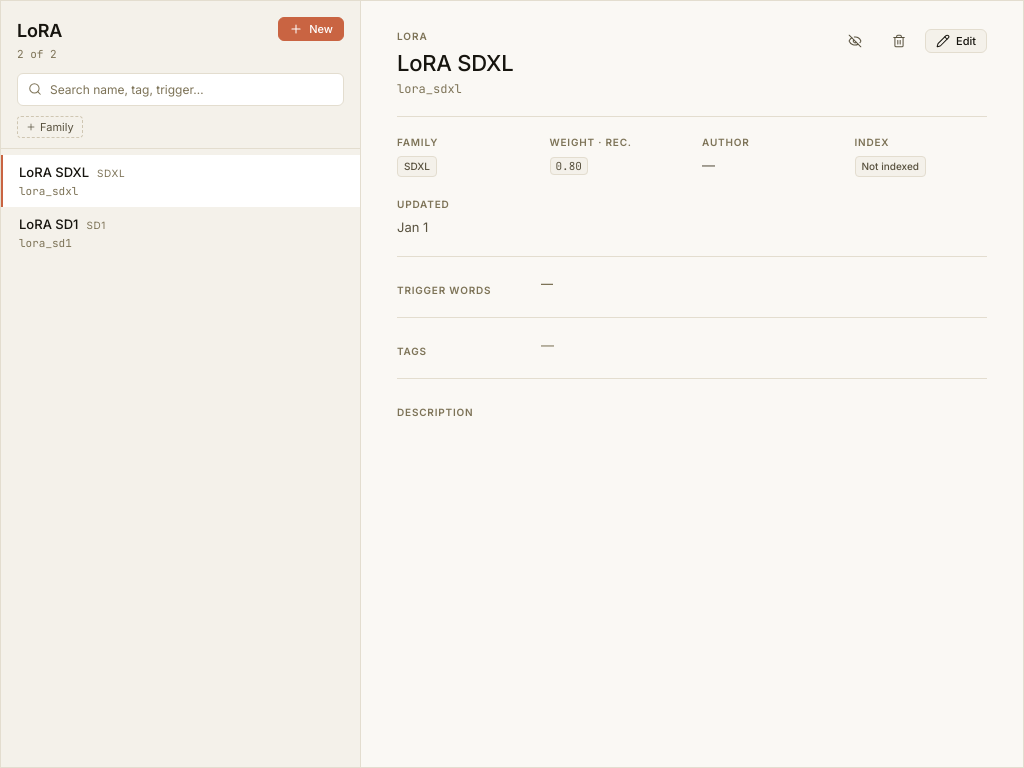
Test case: library routes › replaces family filter when choosing another family (LoRA, like models)
This screenshot has width=1024, height=768.
Expected: the text "lora_sdxl" below "of" is shown, [19,184,78,198]
Expected: the text "lora_sd1" is shown, [19,236,72,250]
Click the button "Family" at [50, 126], box [17,116,83,138]
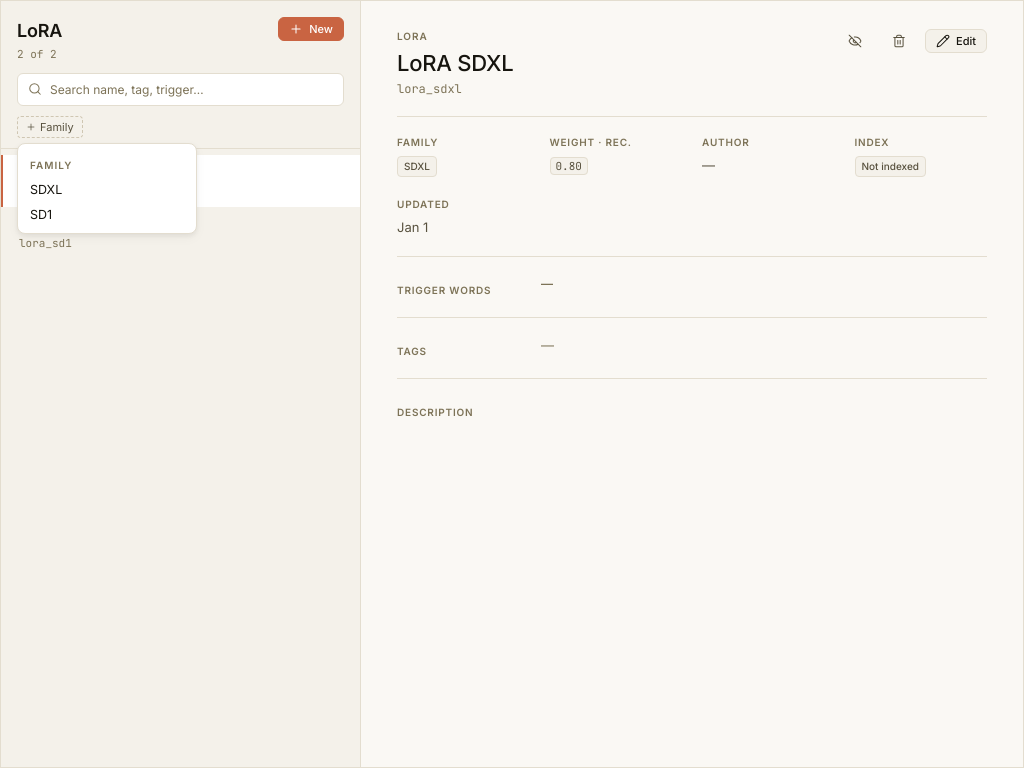
Click the button "SDXL" at [107, 189], box [18,176,196,202]
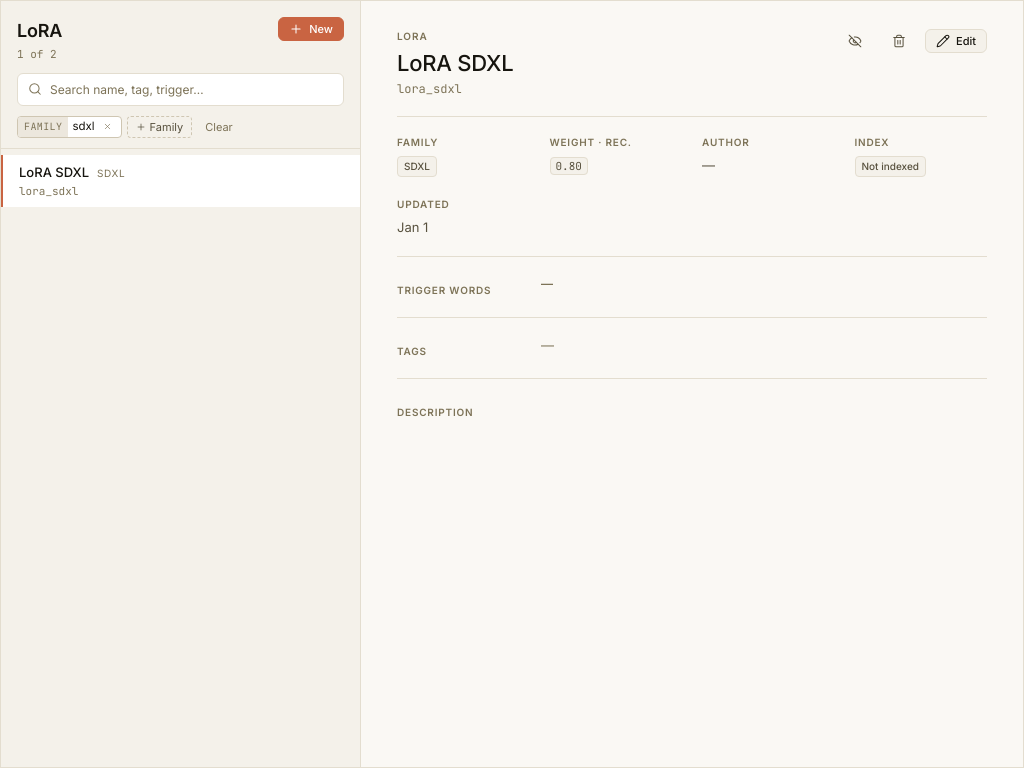
Expected: the text "lora_sdxl" below "of" is shown, [19,184,78,198]
Result: the text "1 of 2" is shown at [17,46,62,62]
Result: the button "lora_sd1" is gone
Click the button "Family" at [159, 126], box [127,116,192,138]
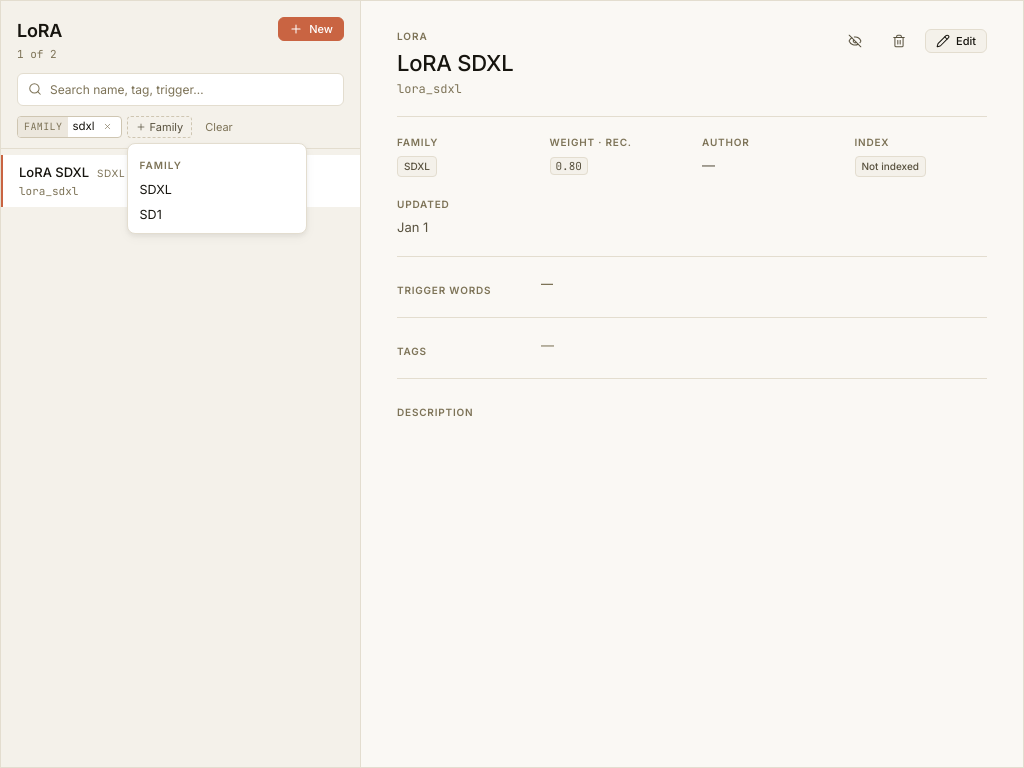
Click the button "SD1" at [217, 214], box [128,202,306,226]
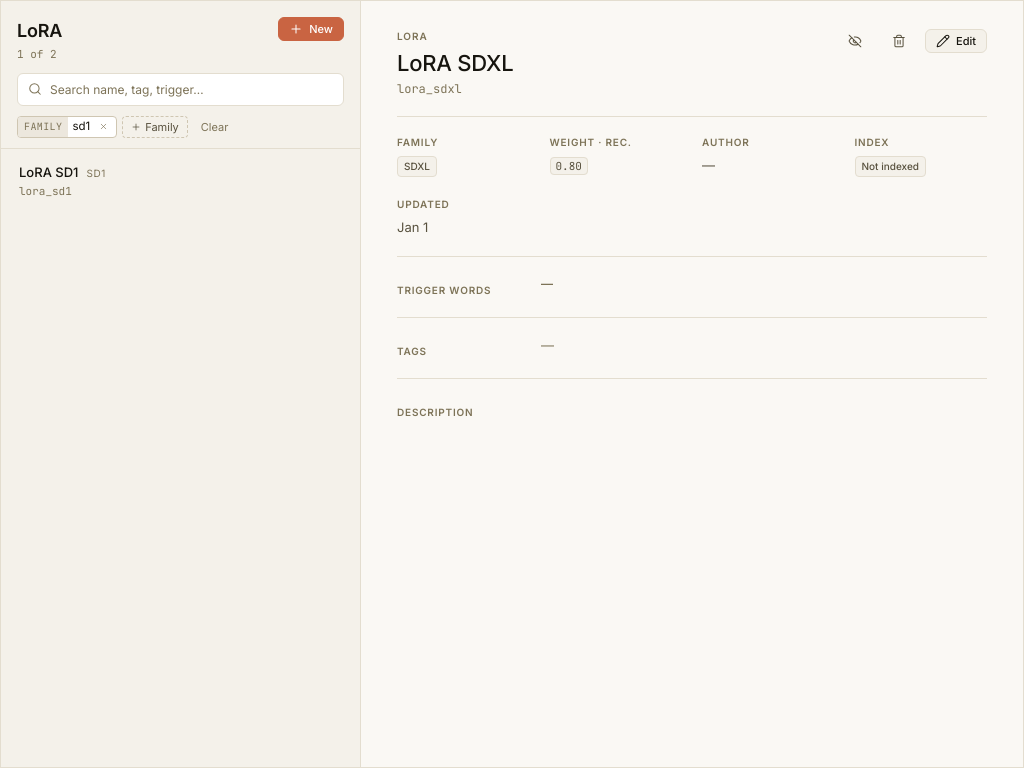
Result: the text "1 of 2" is shown at [17,46,62,62]
Result: the text "lora_sd1" is shown at [19,184,72,198]
